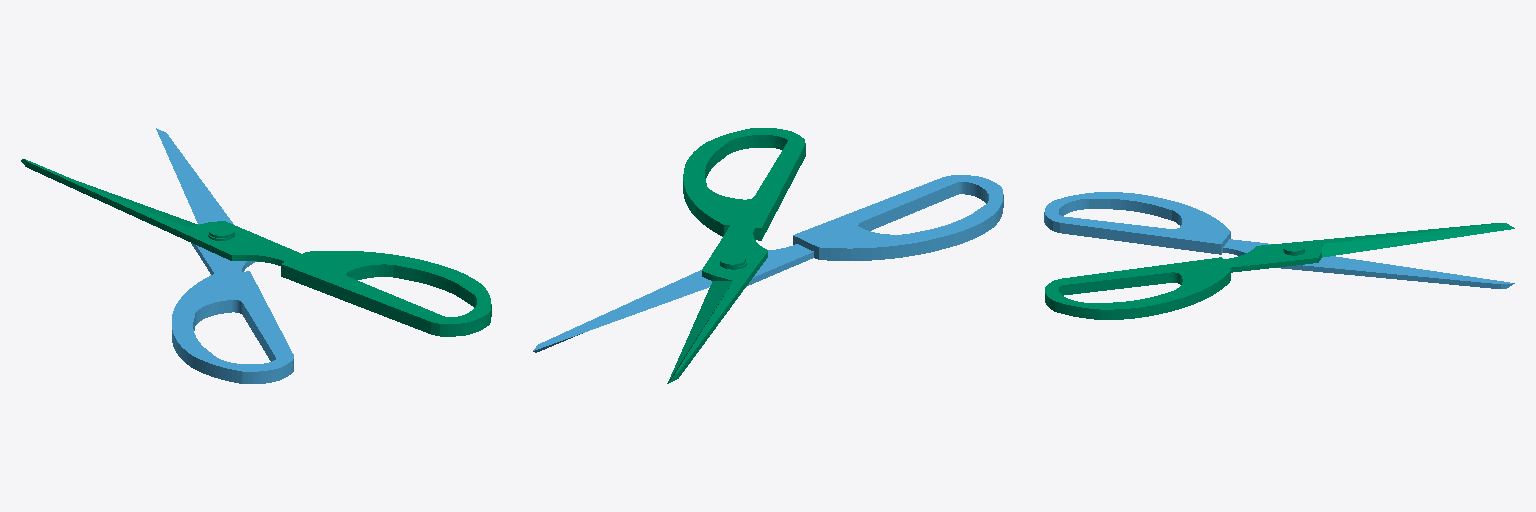
URDF robot description (partnet_b2834c51-fe10-489d-882d-0e9010aafed6):
<?xml version="1.0" ?>
<robot name="partnet_b2834c51-fe10-489d-882d-0e9010aafed6">
	<link name="base"/>
	<link name="link_0">
		<visual name="blade-15">
			<origin xyz="0.2766520142609337 0 -0.019484467816523653"/>
			<geometry>
				<mesh filename="textured_objs/new-5.obj"/>
			</geometry>
		</visual>
		<visual name="blade-15">
			<origin xyz="0.2766520142609337 0 -0.019484467816523653"/>
			<geometry>
				<mesh filename="textured_objs/new-7.obj"/>
			</geometry>
		</visual>
		<visual name="handle-16">
			<origin xyz="0.2766520142609337 0 -0.019484467816523653"/>
			<geometry>
				<mesh filename="textured_objs/original-5.obj"/>
			</geometry>
		</visual>
		<visual name="handle-16">
			<origin xyz="0.2766520142609337 0 -0.019484467816523653"/>
			<geometry>
				<mesh filename="textured_objs/new-4.obj"/>
			</geometry>
		</visual>
		<visual name="handle-16">
			<origin xyz="0.2766520142609337 0 -0.019484467816523653"/>
			<geometry>
				<mesh filename="textured_objs/original-2.obj"/>
			</geometry>
		</visual>
		<visual name="handle-16">
			<origin xyz="0.2766520142609337 0 -0.019484467816523653"/>
			<geometry>
				<mesh filename="textured_objs/new-6.obj"/>
			</geometry>
		</visual>
		<visual name="handle-16">
			<origin xyz="0.2766520142609337 0 -0.019484467816523653"/>
			<geometry>
				<mesh filename="textured_objs/original-1.obj"/>
			</geometry>
		</visual>
		<collision>
			<origin xyz="0.2766520142609337 0 -0.019484467816523653"/>
			<geometry>
				<mesh filename="textured_objs/new-5.obj"/>
			</geometry>
		</collision>
		<collision>
			<origin xyz="0.2766520142609337 0 -0.019484467816523653"/>
			<geometry>
				<mesh filename="textured_objs/new-7.obj"/>
			</geometry>
		</collision>
		<collision>
			<origin xyz="0.2766520142609337 0 -0.019484467816523653"/>
			<geometry>
				<mesh filename="textured_objs/original-5.obj"/>
			</geometry>
		</collision>
		<collision>
			<origin xyz="0.2766520142609337 0 -0.019484467816523653"/>
			<geometry>
				<mesh filename="textured_objs/new-4.obj"/>
			</geometry>
		</collision>
		<collision>
			<origin xyz="0.2766520142609337 0 -0.019484467816523653"/>
			<geometry>
				<mesh filename="textured_objs/original-2.obj"/>
			</geometry>
		</collision>
		<collision>
			<origin xyz="0.2766520142609337 0 -0.019484467816523653"/>
			<geometry>
				<mesh filename="textured_objs/new-6.obj"/>
			</geometry>
		</collision>
		<collision>
			<origin xyz="0.2766520142609337 0 -0.019484467816523653"/>
			<geometry>
				<mesh filename="textured_objs/original-1.obj"/>
			</geometry>
		</collision>
	</link>
	<joint name="joint_0" type="revolute">
		<origin xyz="-0.2766520142609337 0 0.019484467816523653"/>
		<axis xyz="0 -1 0"/>
		<child link="link_0"/>
		<parent link="link_1"/>
		<limit lower="-0.5654866776461628" upper="0.722566310325652"/>
	</joint>
	<link name="link_1">
		<visual name="screw-10">
			<origin xyz="0 0 0"/>
			<geometry>
				<mesh filename="textured_objs/original-12.obj"/>
			</geometry>
		</visual>
		<visual name="screw-10">
			<origin xyz="0 0 0"/>
			<geometry>
				<mesh filename="textured_objs/original-3.obj"/>
			</geometry>
		</visual>
		<visual name="screw-10">
			<origin xyz="0 0 0"/>
			<geometry>
				<mesh filename="textured_objs/original-9.obj"/>
			</geometry>
		</visual>
		<visual name="screw-10">
			<origin xyz="0 0 0"/>
			<geometry>
				<mesh filename="textured_objs/original-4.obj"/>
			</geometry>
		</visual>
		<visual name="blade-13">
			<origin xyz="0 0 0"/>
			<geometry>
				<mesh filename="textured_objs/new-3.obj"/>
			</geometry>
		</visual>
		<visual name="blade-13">
			<origin xyz="0 0 0"/>
			<geometry>
				<mesh filename="textured_objs/new-1.obj"/>
			</geometry>
		</visual>
		<visual name="handle-14">
			<origin xyz="0 0 0"/>
			<geometry>
				<mesh filename="textured_objs/original-11.obj"/>
			</geometry>
		</visual>
		<visual name="handle-14">
			<origin xyz="0 0 0"/>
			<geometry>
				<mesh filename="textured_objs/new-2.obj"/>
			</geometry>
		</visual>
		<visual name="handle-14">
			<origin xyz="0 0 0"/>
			<geometry>
				<mesh filename="textured_objs/original-14.obj"/>
			</geometry>
		</visual>
		<collision>
			<origin xyz="0 0 0"/>
			<geometry>
				<mesh filename="textured_objs/original-12.obj"/>
			</geometry>
		</collision>
		<collision>
			<origin xyz="0 0 0"/>
			<geometry>
				<mesh filename="textured_objs/original-3.obj"/>
			</geometry>
		</collision>
		<collision>
			<origin xyz="0 0 0"/>
			<geometry>
				<mesh filename="textured_objs/original-9.obj"/>
			</geometry>
		</collision>
		<collision>
			<origin xyz="0 0 0"/>
			<geometry>
				<mesh filename="textured_objs/original-4.obj"/>
			</geometry>
		</collision>
		<collision>
			<origin xyz="0 0 0"/>
			<geometry>
				<mesh filename="textured_objs/new-3.obj"/>
			</geometry>
		</collision>
		<collision>
			<origin xyz="0 0 0"/>
			<geometry>
				<mesh filename="textured_objs/new-1.obj"/>
			</geometry>
		</collision>
		<collision>
			<origin xyz="0 0 0"/>
			<geometry>
				<mesh filename="textured_objs/original-11.obj"/>
			</geometry>
		</collision>
		<collision>
			<origin xyz="0 0 0"/>
			<geometry>
				<mesh filename="textured_objs/new-2.obj"/>
			</geometry>
		</collision>
		<collision>
			<origin xyz="0 0 0"/>
			<geometry>
				<mesh filename="textured_objs/original-14.obj"/>
			</geometry>
		</collision>
	</link>
	<joint name="joint_1" type="fixed">
		<origin rpy="1.570796326794897 0 -1.570796326794897" xyz="0 0 0"/>
		<child link="link_1"/>
		<parent link="base"/>
	</joint>
</robot>

--- Render facts (derived) ---
The picture shows the robot from 3 angles, left to right: view 1: azimuth 30°, elevation 25°; view 2: azimuth 150°, elevation 25°; view 3: azimuth 270°, elevation 25°; orthographic projection.
Model partnet_b2834c51-fe10-489d-882d-0e9010aafed6 with 3 links and 2 joints (1 revolute, 1 fixed), rooted at base, posed every joint at zero.
Links seen in each view (by area): view 1: link_1, link_0; view 2: link_0, link_1; view 3: link_1, link_0.
Link boxes in pixels (x1=…): link_1: x1=21, y1=159, x2=491, y2=336; link_0: x1=156, y1=128, x2=293, y2=383; link_0: x1=533, y1=175, x2=1003, y2=352; link_1: x1=667, y1=128, x2=805, y2=383; link_1: x1=1045, y1=223, x2=1514, y2=319; link_0: x1=1044, y1=192, x2=1514, y2=288.
Bounding box of the posed robot: 0.9259 × 1.57 × 0.0673 m (x, y, z).
16 mesh visuals loaded from 16 distinct referenced files (16 OBJ).